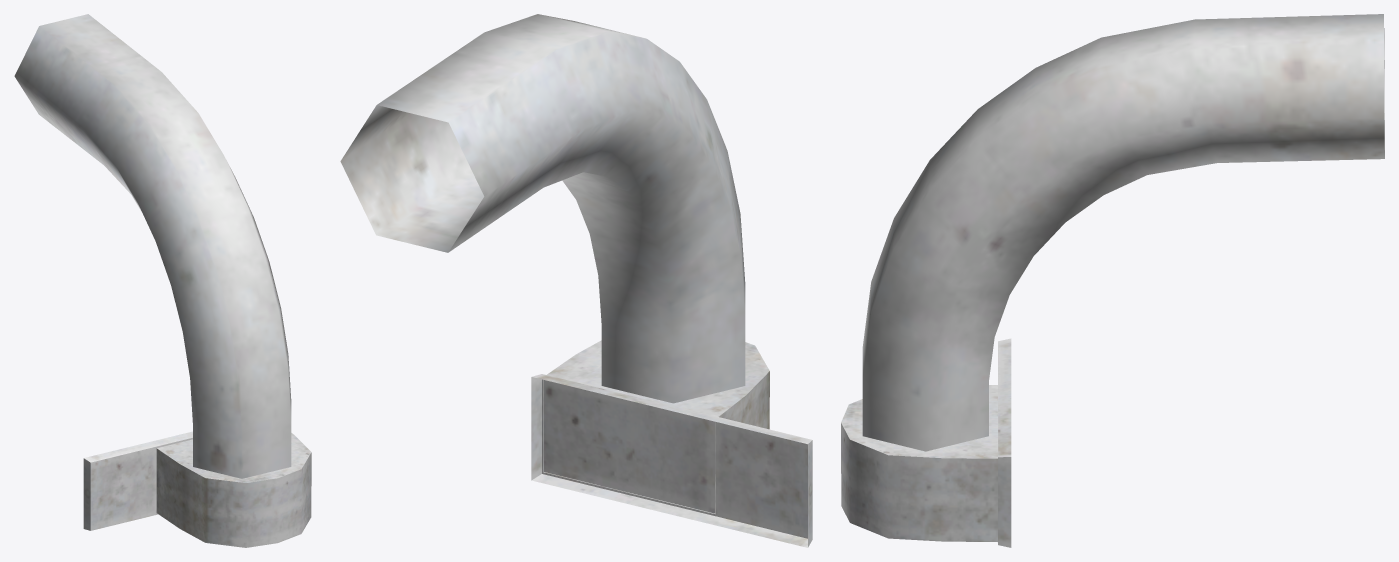
The model's file is SM_Wires_Pipes_01c.glb.
The picture shows the model from 3 angles, left to right: view 1: azimuth 30°, elevation 25°; view 2: azimuth 150°, elevation 25°; view 3: azimuth 270°, elevation 25°; orthographic projection. The views are drawn at different scales.
Visible parts, largest first — view 1: SM_Wires_Pipes_01c; view 2: SM_Wires_Pipes_01c; view 3: SM_Wires_Pipes_01c.
Boxes of the visible parts, x1,y1,x2,y2 form: SM_Wires_Pipes_01c: (14, 14, 311, 547); SM_Wires_Pipes_01c: (340, 14, 812, 547); SM_Wires_Pipes_01c: (841, 14, 1384, 547).
Bounding box in the file's own units: 0.0605 × 0.114 × 0.1174.
Materials: 1 (1 with a texture image).
